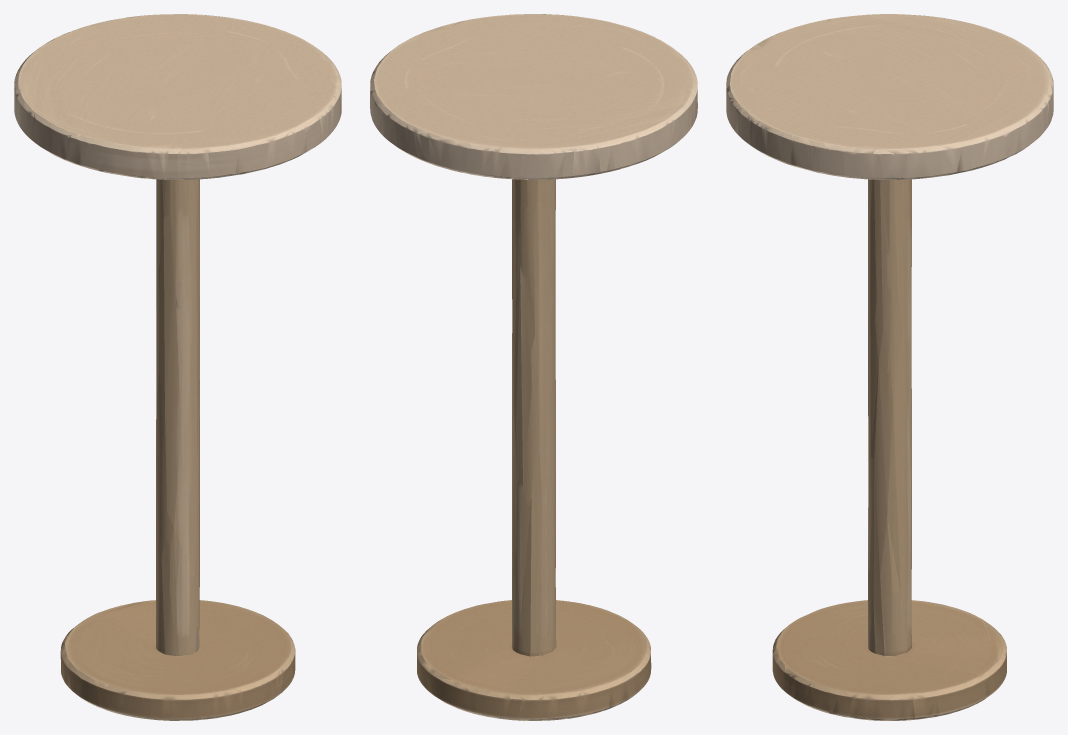
The model's file is raw_plant_pedestal.glb.
3 renders of one model, left to right at view 1: azimuth 30°, elevation 25°; view 2: azimuth 150°, elevation 25°; view 3: azimuth 270°, elevation 25°, orthographic.
Size of the model in its own units: 0.9554 by 1.9 by 0.9547.
1 material, 1 textured.
